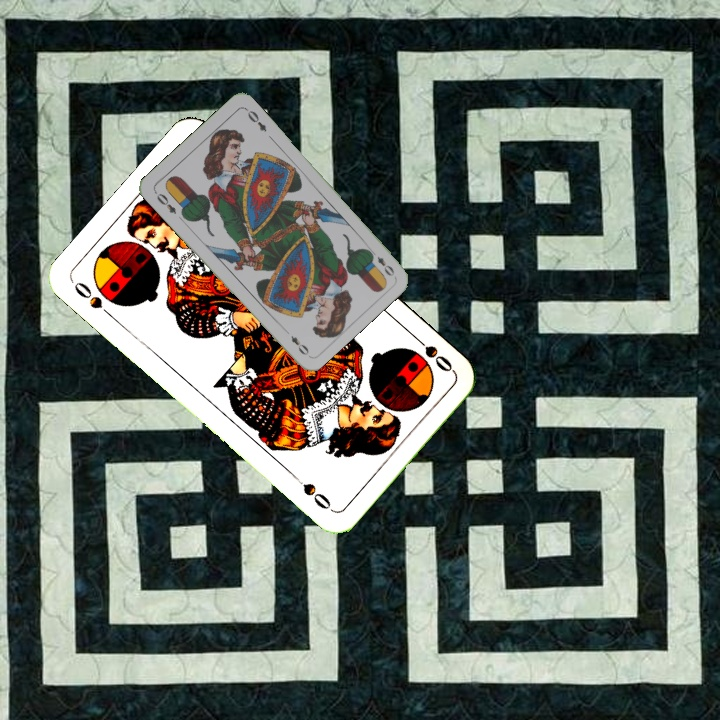EO: (365, 245, 397, 279), (150, 187, 179, 217)
SO: (408, 330, 457, 375), (70, 277, 117, 321)
